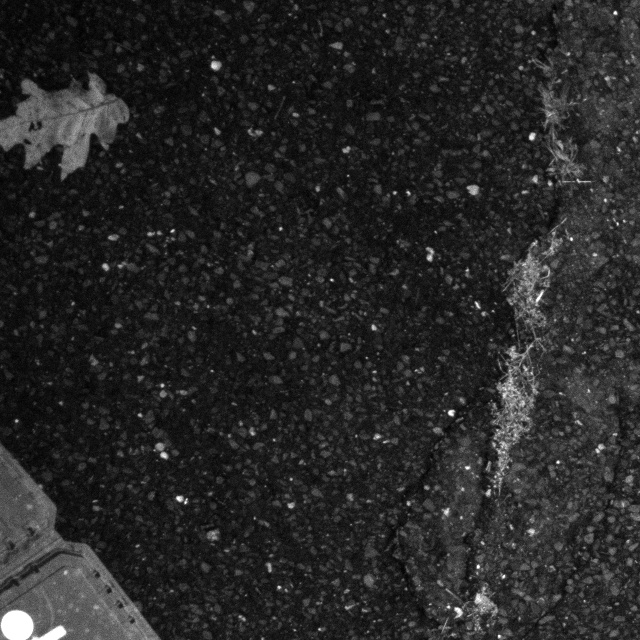container: (0, 422, 173, 640)
